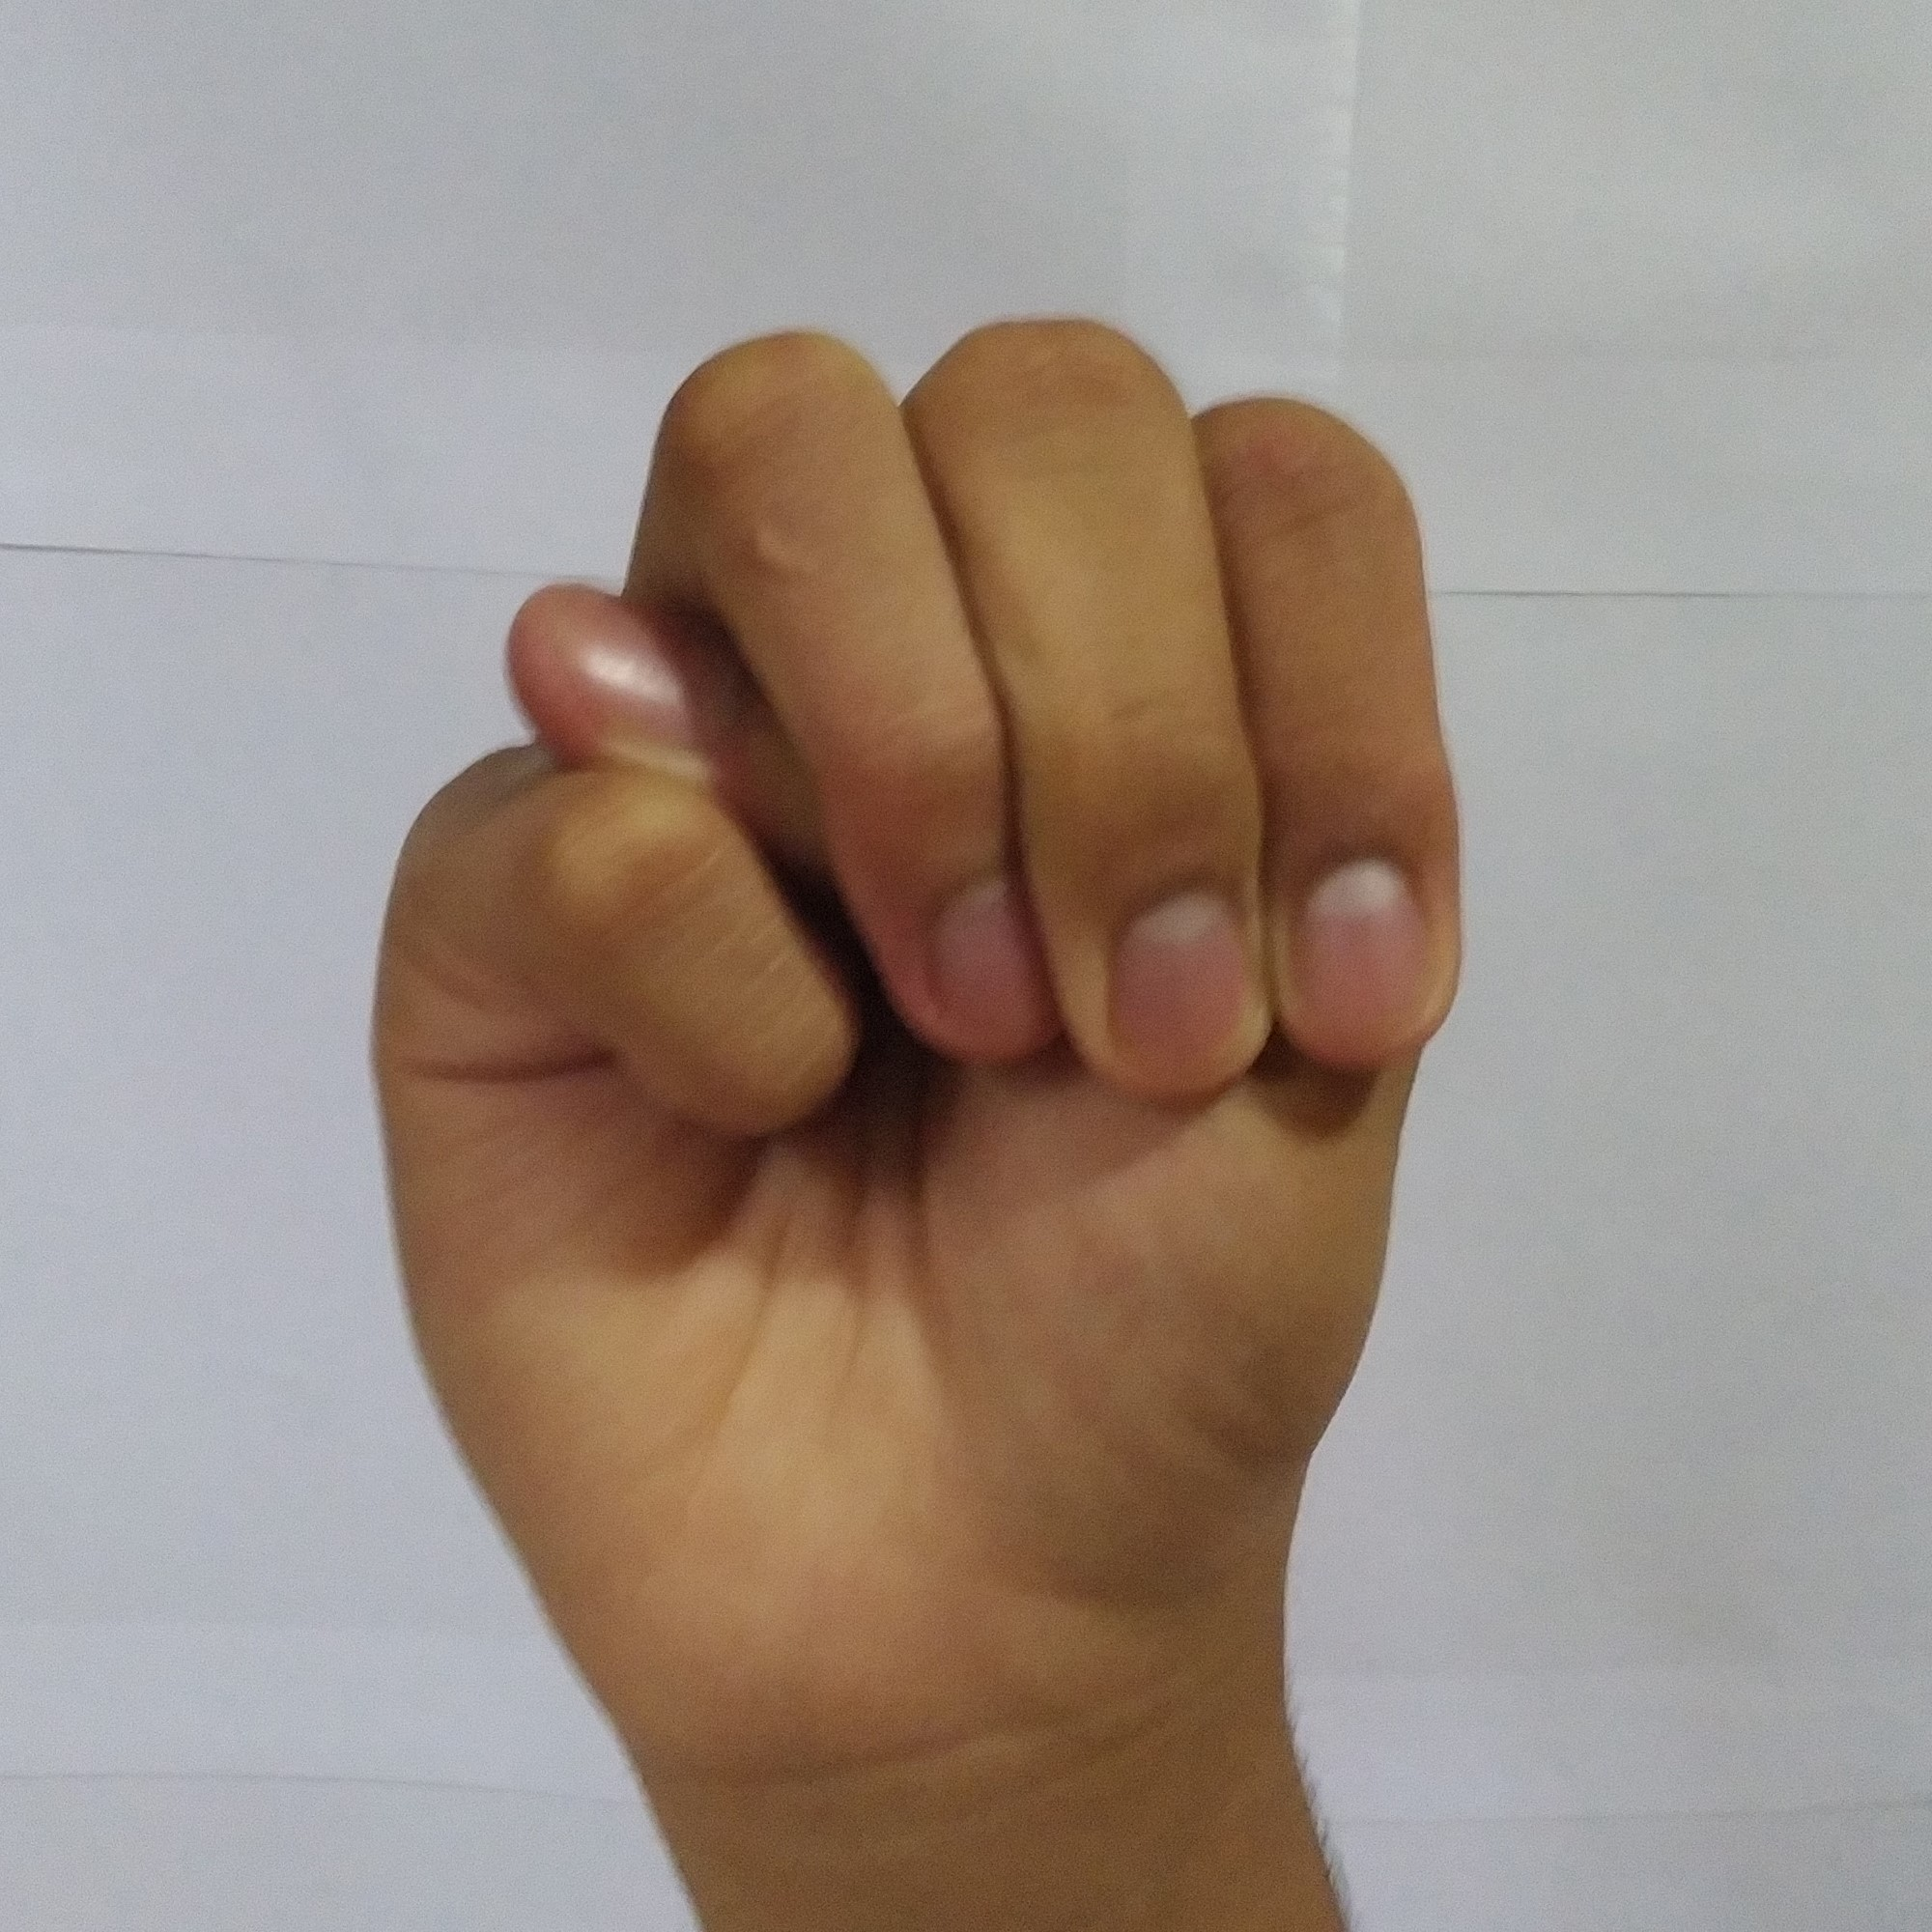M: (334, 285, 1500, 1739)
